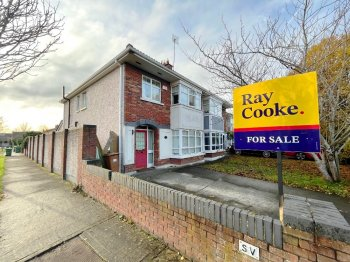property sign: (229, 69, 322, 155)
